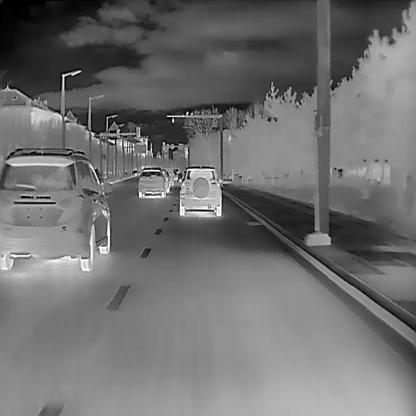car: (0, 145, 110, 270), (176, 164, 222, 215), (138, 165, 166, 197), (160, 168, 170, 193)
